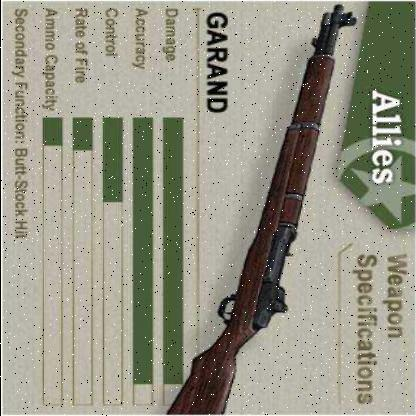rifle: (141, 2, 359, 415)
